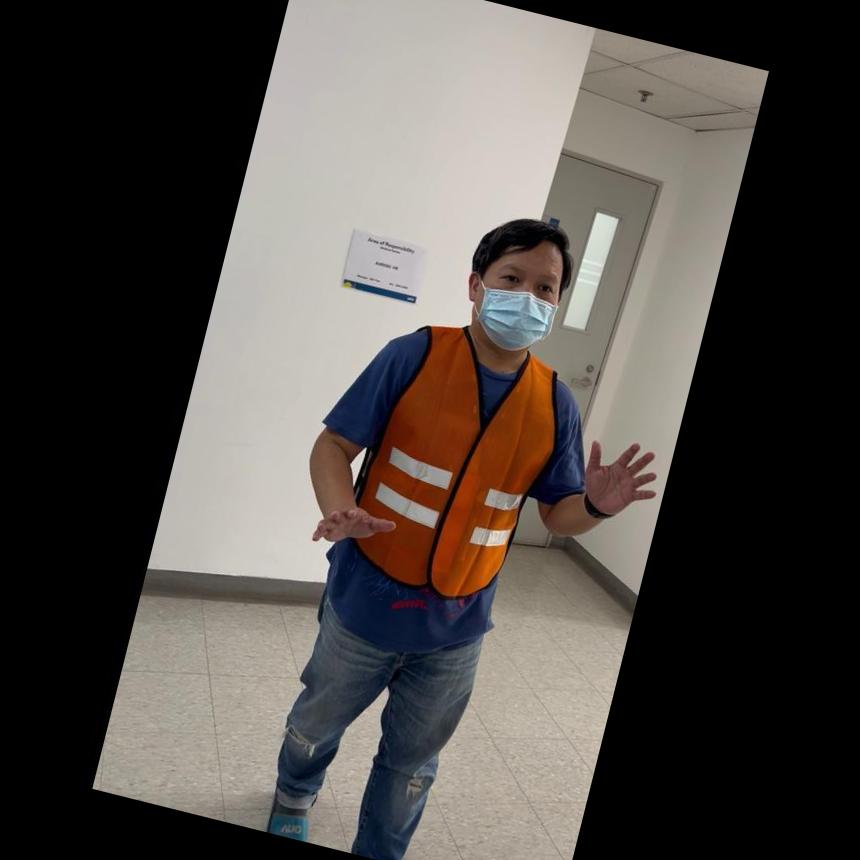No-gloves: (574, 422, 670, 528), (306, 486, 398, 560)
